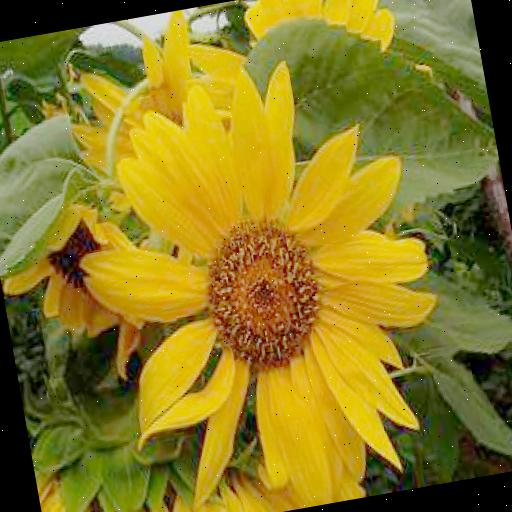sunflower: (52, 47, 469, 512)
